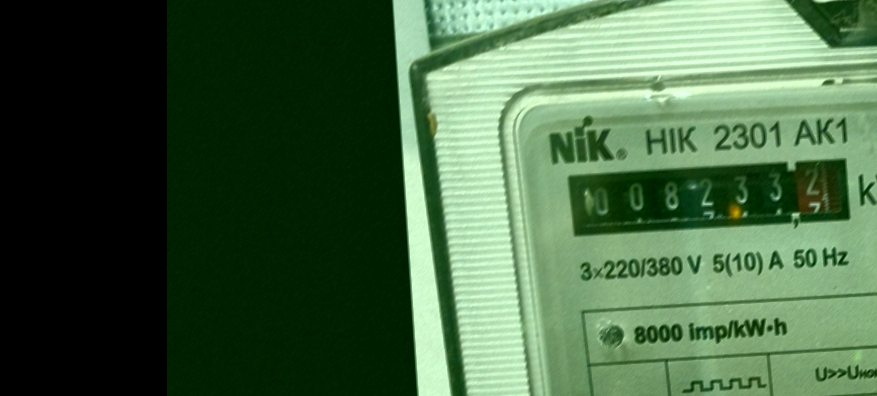0: (592, 185, 615, 218), (628, 182, 649, 214)
2: (697, 177, 719, 210), (805, 166, 824, 199)
3: (734, 174, 753, 207), (769, 171, 788, 203)
8: (664, 180, 683, 213)
screen: (560, 147, 865, 248)
